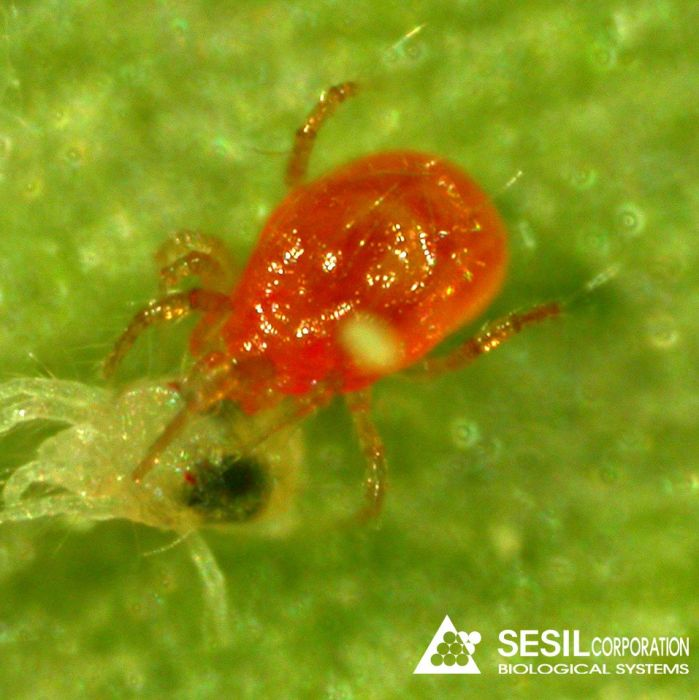Mites: (96, 44, 568, 424), (1, 351, 318, 626)
